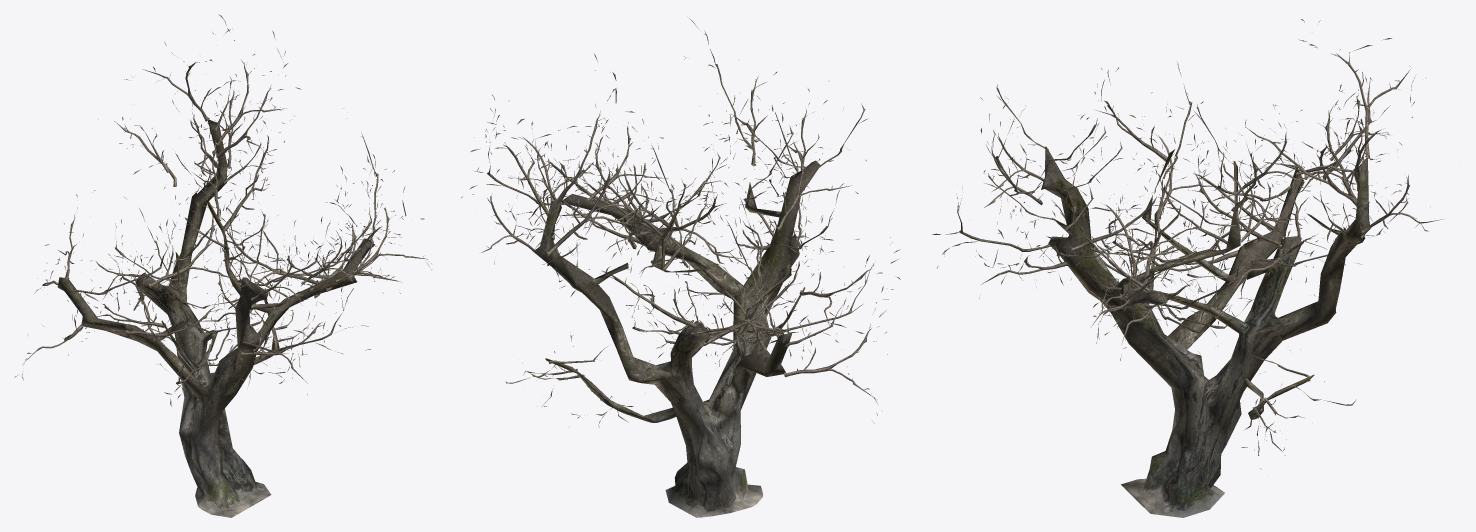
File: island-tree-01-leafless.glb
3 renders of one model, left to right at view 1: azimuth 30°, elevation 25°; view 2: azimuth 150°, elevation 25°; view 3: azimuth 270°, elevation 25°, orthographic. The views are drawn at different scales.
Parts seen in each view (by area): view 1: island_tree_01_LOD0; view 2: island_tree_01_LOD0; view 3: island_tree_01_LOD0.
Part boxes in pixels (x1,y1,x2,y2): island_tree_01_LOD0: (14, 14, 431, 517); island_tree_01_LOD0: (461, 18, 900, 517); island_tree_01_LOD0: (932, 19, 1442, 517).
Bounding box in the file's own units: 4.42 × 4.89 × 4.59.
2 materials, 2 textured.
